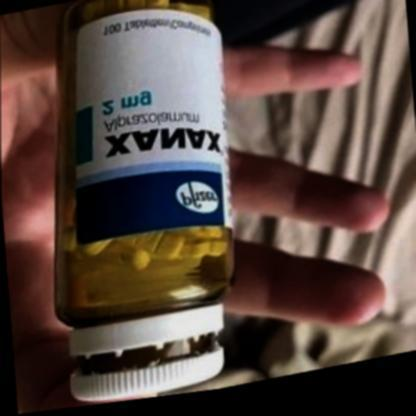jar: (56, 0, 232, 402)
